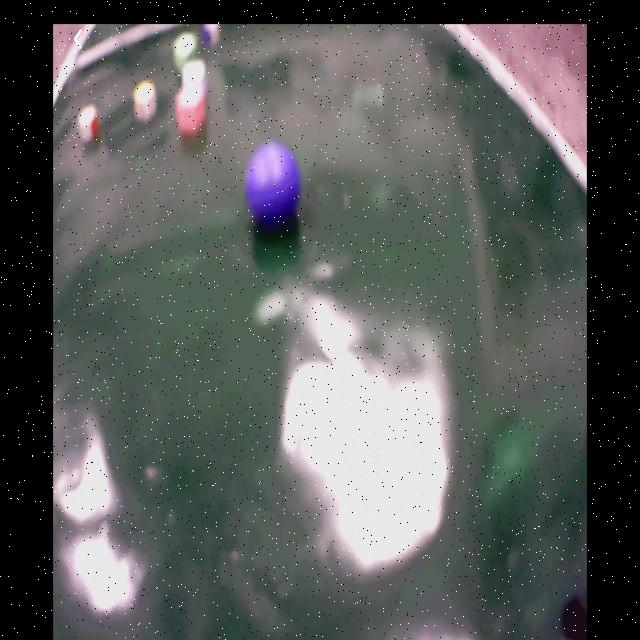ball: (246, 139, 301, 228)
